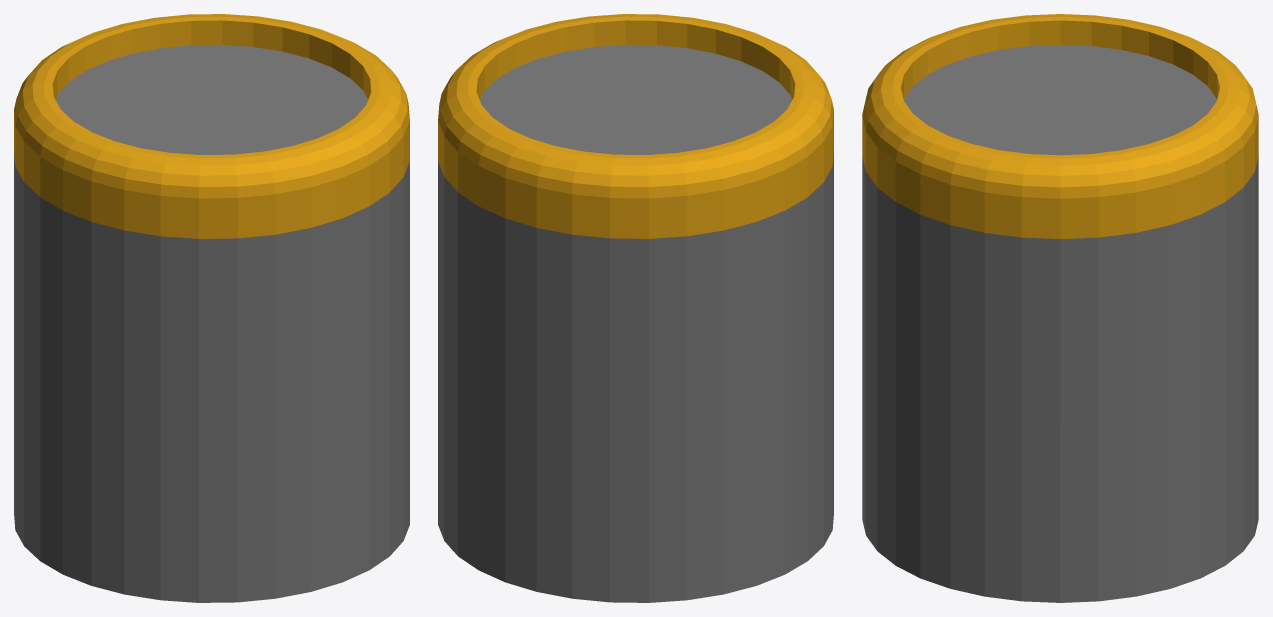
File: poubelle.fbx
The picture shows the model from 3 angles, left to right: view 1: azimuth 30°, elevation 25°; view 2: azimuth 150°, elevation 25°; view 3: azimuth 270°, elevation 25°; orthographic projection.
Visible parts, largest first — view 1: poubelle; view 2: poubelle; view 3: poubelle.
Boxes of the visible parts, left/top/right/bottom form: poubelle: left=14, top=14, right=409, bottom=602; poubelle: left=438, top=14, right=833, bottom=602; poubelle: left=862, top=14, right=1258, bottom=602.
Bounding box in the file's own units: 150 × 180 × 150.
